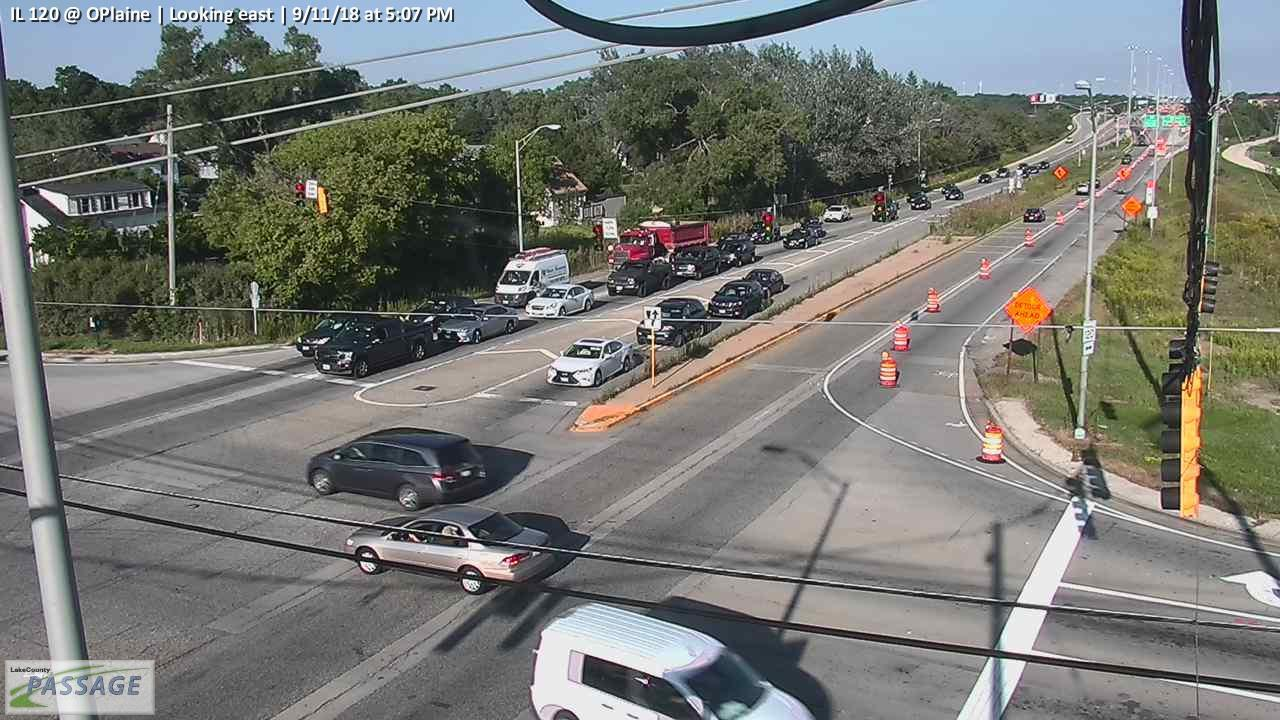SUV: (306, 426, 488, 511), (494, 247, 571, 309), (670, 247, 720, 280), (717, 239, 757, 268), (821, 203, 852, 222)
Sedan: (344, 504, 555, 595), (546, 338, 639, 387), (437, 302, 519, 344), (525, 282, 595, 319), (782, 228, 819, 249), (1023, 205, 1047, 222)
Truck: (315, 315, 434, 378), (607, 219, 712, 270), (637, 298, 714, 347), (708, 280, 770, 321), (606, 259, 672, 296), (744, 266, 786, 298)
